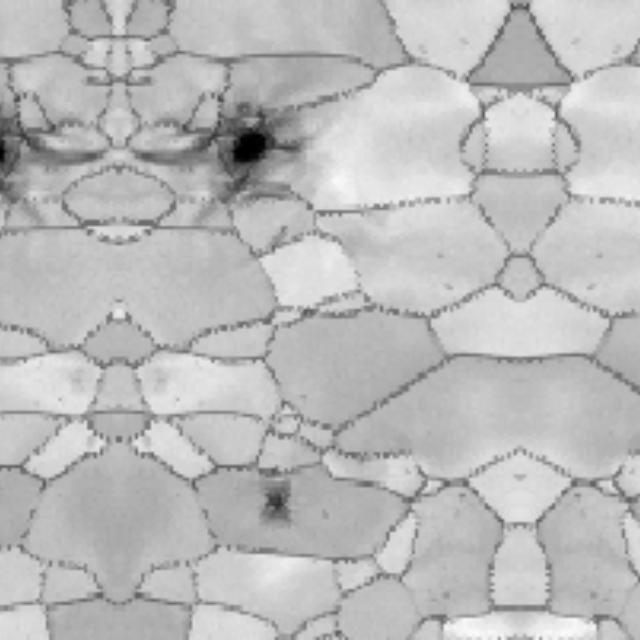good_void: (130, 56, 338, 240), (0, 99, 108, 210), (258, 474, 298, 522), (296, 386, 317, 408), (440, 587, 456, 603), (315, 505, 331, 521), (432, 249, 447, 264), (595, 249, 610, 264), (586, 588, 600, 601)
